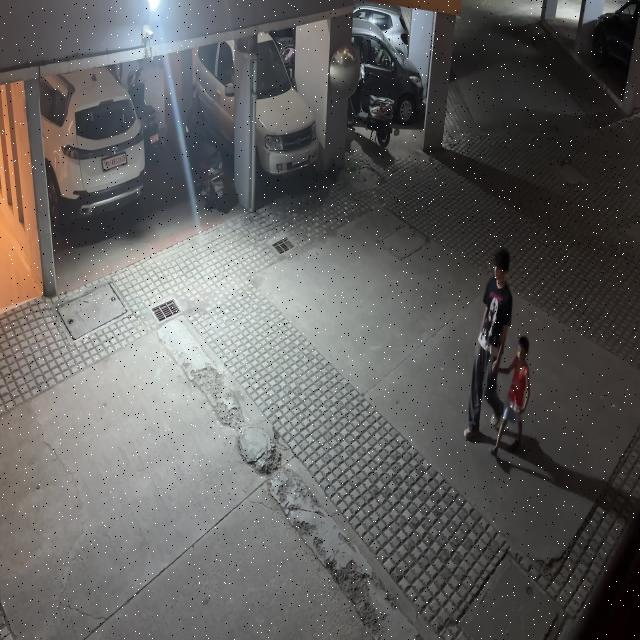human: (462, 244, 514, 443), (488, 313, 536, 461)
trash: (507, 391, 522, 423)
